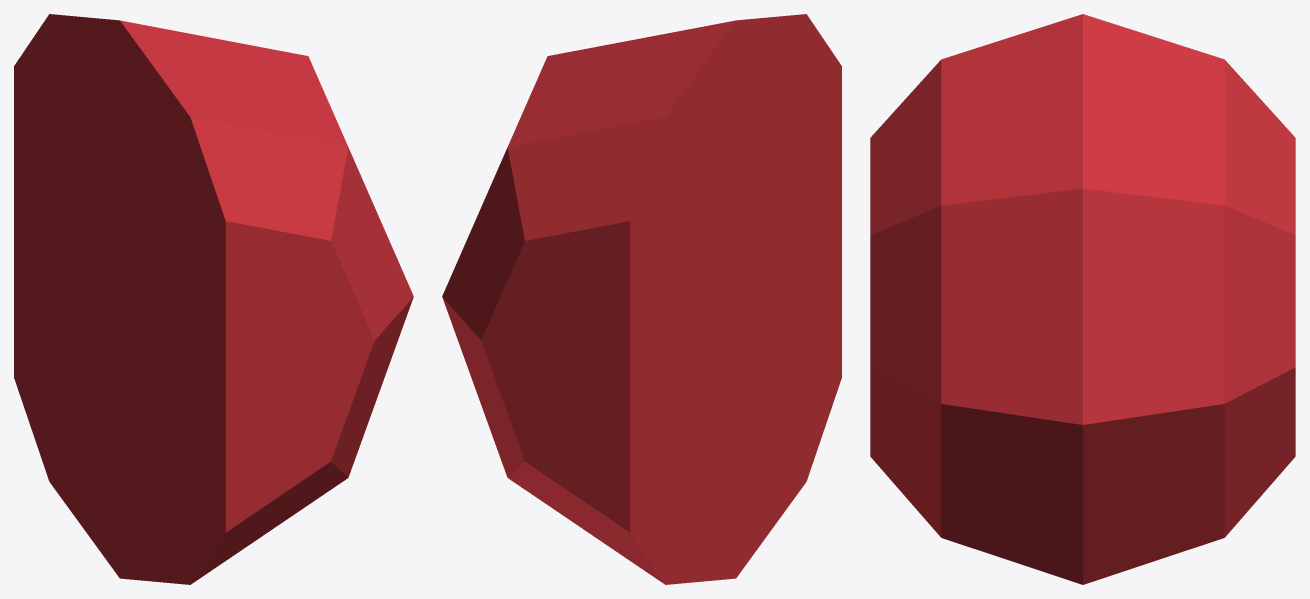
The model's file is halfTomatoInside.obj.
3 views of the same model, side by side, from view 1: azimuth 30°, elevation 25°; view 2: azimuth 150°, elevation 25°; view 3: azimuth 270°, elevation 25° (orthographic).
Visible parts, largest first — view 1: tomato.003; view 2: tomato.003; view 3: tomato.003.
Boxes of the visible parts, bbox=[...] form: tomato.003: bbox=[14, 14, 413, 584]; tomato.003: bbox=[442, 14, 841, 584]; tomato.003: bbox=[870, 14, 1295, 584].
Size of the model in its own units: 0.0616 by 0.1232 by 0.0847.
